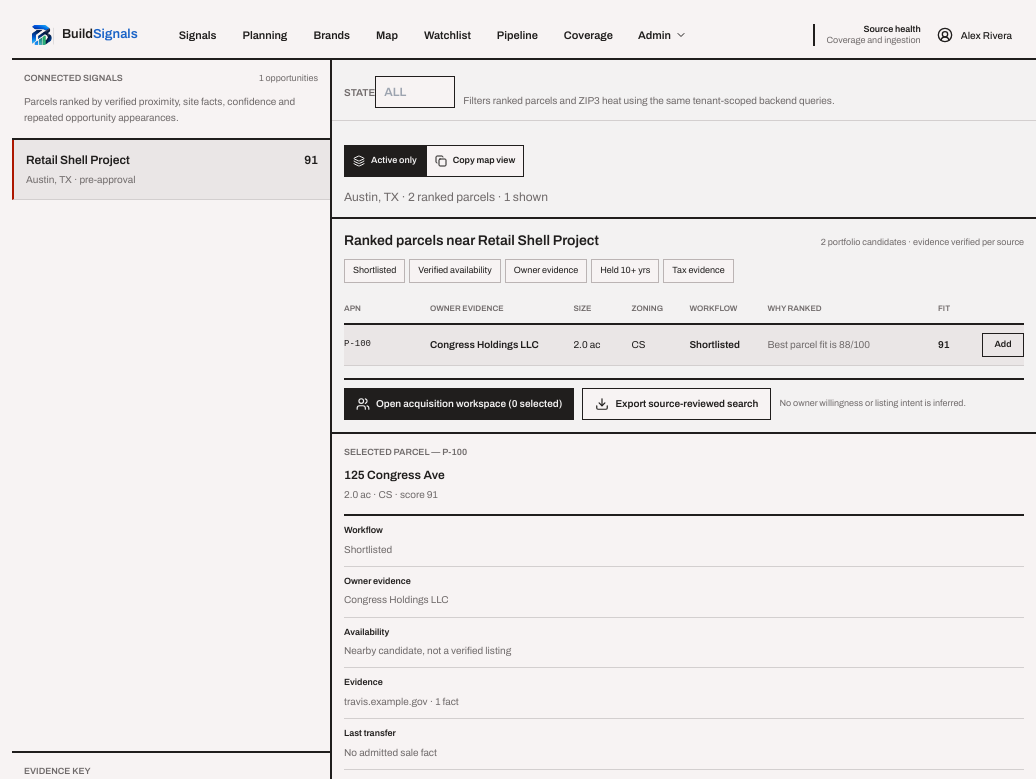
Scenario: Build Signals wireframe screens › renders live radar parcels without inferring listing or owner intent
This screenshot has width=1036, height=779.
Expected: the heading "Ranked parcels near Retail Shell Project" is shown, [344,231,599,251]
Expected: the text "Congress Holdings LLC" in the row of "Best parcel fit is 88/100" is shown, [430,339,539,350]
Click the button "Active only": (385,161) [344,145,426,177]
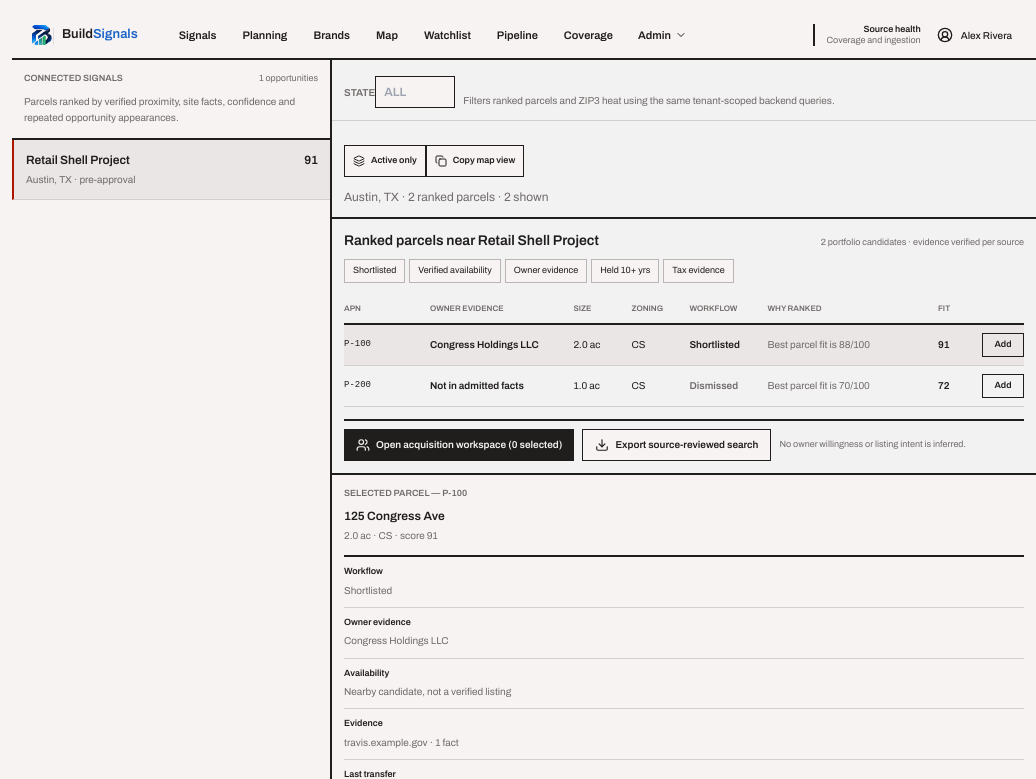
Now the button "P-200" is shown, box [344,379,422,392]
Now the text "Dismissed" is shown, box [690,380,738,391]
